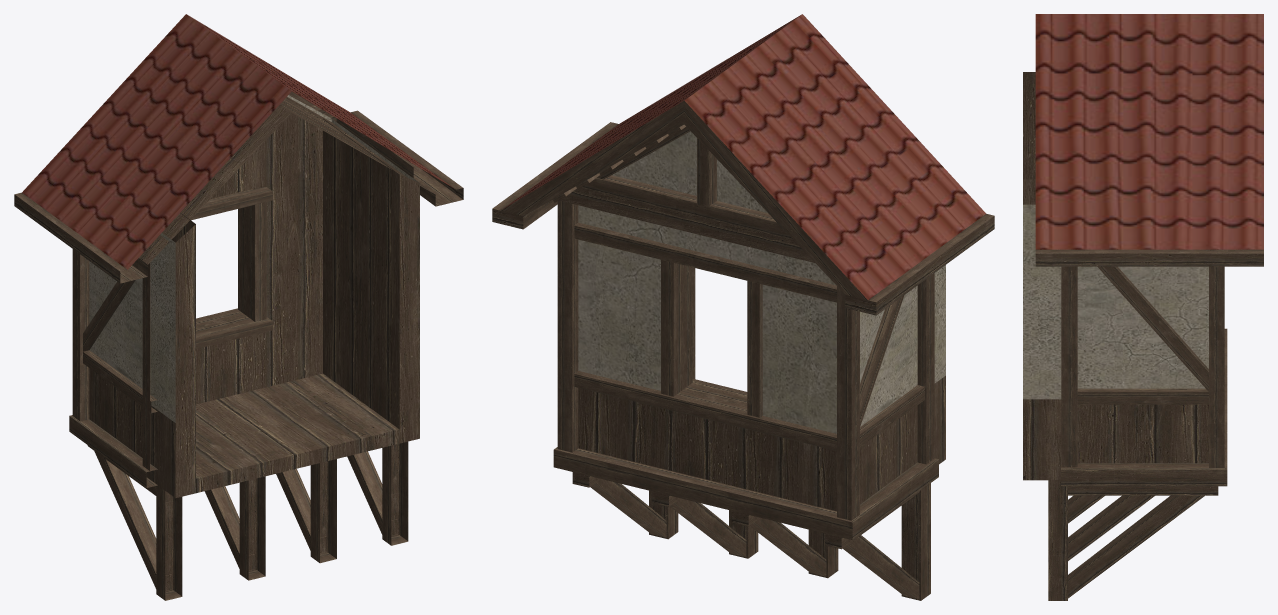
File: ARC1010369.fbx
3 renders of one model, left to right at view 1: azimuth 30°, elevation 25°; view 2: azimuth 150°, elevation 25°; view 3: azimuth 270°, elevation 25°, orthographic. The views are drawn at different scales.
Parts seen in each view (by area): view 1: smARC1010369; view 2: smARC1010369; view 3: smARC1010369.
Boxes of the visible parts, x1=… form: smARC1010369: x1=14, y1=14, x2=463, y2=600; smARC1010369: x1=492, y1=14, x2=994, y2=600; smARC1010369: x1=1023, y1=14, x2=1263, y2=600.
Size of the model in its own units: 377 by 508 by 212.
Materials: 1 (1 with a texture image).
